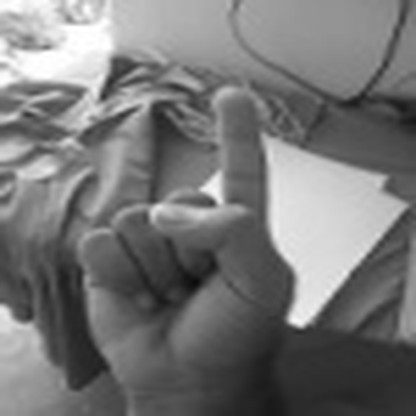d: (74, 79, 301, 413)
